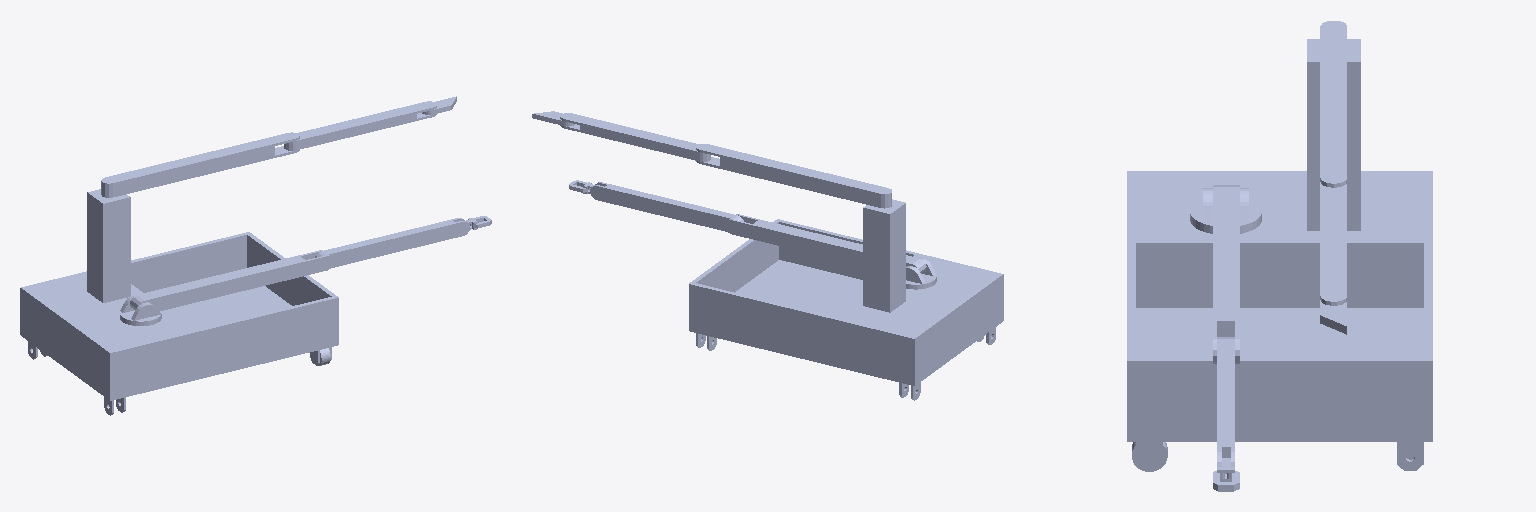
--- Facts derived from the render (not from the file) ---
Views: 3 orthographic renders of the robot side by side, from view 1: azimuth 30°, elevation 25°; view 2: azimuth 150°, elevation 25°; view 3: azimuth 270°, elevation 25°.
Robot: urdf_sim_tutorial — 15 links, 14 joints (9 revolute, 4 continuous, 1 prismatic); root link base_link; default pose: every joint at zero.
Links seen in each view (by area): view 1: base_link, arm2_link2, arm1_link2, arm1_link3, arm2_link3, arm1_link1; view 2: base_link, arm2_link2, arm1_link2, arm1_link3, arm2_link3, arm1_link1; view 3: base_link, arm2_link2, arm1_link2, arm2_link3, arm1_link3, arm1_link1, arm2_link1, arm2_link4.
Boxes of the visible links, box(x1,y1,x2,y2) form: base_link: box(20, 196, 338, 415); arm2_link2: box(101, 132, 299, 197); arm1_link2: box(130, 250, 333, 311); arm1_link3: box(315, 218, 469, 267); arm2_link3: box(284, 101, 436, 150); arm1_link1: box(120, 294, 161, 325); base_link: box(689, 207, 1003, 400); arm2_link2: box(696, 144, 891, 208); arm1_link2: box(724, 214, 926, 275); arm1_link3: box(590, 182, 743, 231); arm2_link3: box(560, 113, 710, 161); arm1_link1: box(906, 258, 936, 289); base_link: box(1127, 69, 1432, 470); arm2_link2: box(1320, 21, 1346, 187); arm1_link2: box(1213, 185, 1239, 363); arm2_link3: box(1320, 176, 1346, 305); arm1_link3: box(1217, 337, 1234, 466); arm1_link1: box(1190, 188, 1261, 233); arm2_link1: box(1307, 24, 1360, 68); arm2_link4: box(1320, 294, 1346, 334).
Bounding box of the posed robot: 4.5 × 1.7 × 1.91 m (x, y, z).
12 mesh visuals loaded from 15 distinct referenced files (12 binary STL); not drawn: 3 (reference not matched to a file when rendering).

The robot description file, URDF, robot "urdf_sim_tutorial":
<?xml version="1.0" encoding="utf-8"?>
<!-- This URDF was automatically created by SolidWorks to URDF Exporter! Originally created by Stephen Brawner ([email redacted]) 
     Commit Version: 1.5.1-0-g916b5db  Build Version: 1.5.7152.31018
     For more information, please see http://wiki.ros.org/sw_urdf_exporter -->
<robot
  name="urdf_sim_tutorial">
  <link
    name="base_link">
    <inertial>
      <origin
        xyz="-0.371636722392214 0.0139988026323521 -0.0128778468746189"
        rpy="0 0 0" />
      <mass
        value="1183.08155050657" />
      <inertia
        ixx="372.2306011621"
        ixy="3.78208983204614"
        ixz="48.0097422573757"
        iyy="641.840529280856"
        iyz="-11.8594518724721"
        izz="891.70713474857" />
    </inertial>
    <visual>
      <origin
        xyz="0 0 0"
        rpy="0 0 0" />
      <geometry>
        <mesh
          filename="package://urdf_sim_tutorial/meshes/base_link.STL" />
      </geometry>
      <material
        name="">
        <color
          rgba="0.792156862745098 0.819607843137255 0.933333333333333 1" />
      </material>
    </visual>
    <collision>
      <origin
        xyz="0 0 0"
        rpy="0 0 0" />
      <geometry>
        <mesh
          filename="package://urdf_sim_tutorial/meshes/base_link.STL" />
      </geometry>
    </collision>
  </link>
  <link
    name="wheel1">
    <inertial>
      <origin
        xyz="0 0 -2.2204E-16"
        rpy="0 0 0" />
      <mass
        value="3.2398" />
      <inertia
        ixx="0.015739"
        ixy="2.1176E-20"
        ixz="-4.2352E-20"
        iyy="0.010876"
        iyz="-5.5739E-19"
        izz="0.010876" />
    </inertial>
    <visual>
      <origin
        xyz="0 0 0"
        rpy="0 0 0" />
      <geometry>
        <mesh
          filename="package://urdf_sim_tutorial/meshes/wheel1.STL" />
      </geometry>
      <material
        name="">
        <color
          rgba="0.79216 0.81961 0.93333 1" />
      </material>
    </visual>
    <collision>
      <origin
        xyz="0 0 0"
        rpy="0 0 0" />
      <geometry>
        <mesh
          filename="package://urdf_sim_tutorial/meshes/wheel1.STL" />
      </geometry>
    </collision>
  </link>
  <joint
    name="base_link_to_wheel1"
    type="continuous">
    <origin
      xyz="1.125 -0.725 -0.37"
      rpy="0 0 0" />
    <parent
      link="base_link" />
    <child
      link="wheel1" />
    <axis
      xyz="1 0 0" />
    <limit
      effort="1000"
      velocity="0.5" />
  </joint>
  <link
    name="wheel2">
    <inertial>
      <origin
        xyz="4.3368E-18 4.4409E-16 0"
        rpy="0 0 0" />
      <mass
        value="3.2398" />
      <inertia
        ixx="0.015739"
        ixy="1.1294E-20"
        ixz="-4.2352E-20"
        iyy="0.010876"
        iyz="-2.1791E-19"
        izz="0.010876" />
    </inertial>
    <visual>
      <origin
        xyz="0 0 0"
        rpy="0 0 0" />
      <geometry>
        <mesh
          filename="package://urdf_sim_tutorial/meshes/wheel2.STL" />
      </geometry>
      <material
        name="">
        <color
          rgba="0.79216 0.81961 0.93333 1" />
      </material>
    </visual>
    <collision>
      <origin
        xyz="0 0 0"
        rpy="0 0 0" />
      <geometry>
        <mesh
          filename="package://urdf_sim_tutorial/meshes/wheel2.STL" />
      </geometry>
    </collision>
  </link>
  <joint
    name="base_link_to_wheel2"
    type="continuous">
    <origin
      xyz="-1.125 -0.725 -0.37"
      rpy="0 0 0" />
    <parent
      link="base_link" />
    <child
      link="wheel2" />
    <axis
      xyz="1 0 0" />
    <limit
      effort="1000"
      velocity="0.5" />
  </joint>
  <link
    name="wheel3">
    <inertial>
      <origin
        xyz="4.3368E-18 0 0"
        rpy="0 0 0" />
      <mass
        value="3.2398" />
      <inertia
        ixx="0.015739"
        ixy="1.1294E-20"
        ixz="-4.2352E-20"
        iyy="0.010876"
        iyz="-2.1791E-19"
        izz="0.010876" />
    </inertial>
    <visual>
      <origin
        xyz="0 0 0"
        rpy="0 0 0" />
      <geometry>
        <mesh
          filename="package://urdf_sim_tutorial/meshes/wheel3.STL" />
      </geometry>
      <material
        name="">
        <color
          rgba="0.79216 0.81961 0.93333 1" />
      </material>
    </visual>
    <collision>
      <origin
        xyz="0 0 0"
        rpy="0 0 0" />
      <geometry>
        <mesh
          filename="package://urdf_sim_tutorial/meshes/wheel3.STL" />
      </geometry>
    </collision>
  </link>
  <joint
    name="base_link_to_wheel3"
    type="continuous">
    <origin
      xyz="-1.125 0.725 -0.37"
      rpy="0 0 0" />
    <parent
      link="base_link" />
    <child
      link="wheel3" />
    <axis
      xyz="1 0 0" />
    <limit
      effort="1000"
      velocity="0.5" />
  </joint>
  <link
    name="wheel4">
    <inertial>
      <origin
        xyz="0 0 -2.22044604925031E-16"
        rpy="0 0 0" />
      <mass
        value="3.23976742401446" />
      <inertia
        ixx="0.0157386428837066"
        ixy="2.11758236813573E-20"
        ixz="-4.23516473627149E-20"
        iyy="0.0108759237861092"
        iyz="-5.57387383962731E-19"
        izz="0.0108759237861092" />
    </inertial>
    <visual>
      <origin
        xyz="0 0 0"
        rpy="0 0 0" />
      <geometry>
        <mesh
          filename="package://urdf_sim_tutorial/meshes/wheel4.STL" />
      </geometry>
      <material
        name="">
        <color
          rgba="0.792156862745098 0.819607843137255 0.933333333333333 1" />
      </material>
    </visual>
    <collision>
      <origin
        xyz="0 0 0"
        rpy="0 0 0" />
      <geometry>
        <mesh
          filename="package://urdf_sim_tutorial/meshes/wheel4.STL" />
      </geometry>
    </collision>
  </link>
  <joint
    name="base_link_to_wheel4"
    type="continuous">
    <origin
      xyz="1.125 0.725 -0.37"
      rpy="0 0 0" />
    <parent
      link="base_link" />
    <child
      link="wheel4" />
    <axis
      xyz="1 0 0" />
    <limit
      effort="1000"
      velocity="0.5" />
  </joint>
  <link
    name="arm1_link1">
    <inertial>
      <origin
        xyz="0 0 -0.0899421612400215"
        rpy="0 0 0" />
      <mass
        value="30.3337963399308" />
      <inertia
        ixx="0.643246565913193"
        ixy="-5.82335151237331E-18"
        ixz="-1.37821492542742E-18"
        iyy="0.626370474669819"
        iyz="3.82687635178316E-17"
        izz="0.408564224727811" />
    </inertial>
    <visual>
      <origin
        xyz="0 0 0"
        rpy="0 0 0" />
      <geometry>
        <mesh
          filename="package://urdf_sim_tutorial/meshes/arm1_link1.STL" />
      </geometry>
      <material
        name="">
        <color
          rgba="0.792156862745098 0.819607843137255 0.933333333333333 1" />
      </material>
    </visual>
    <collision>
      <origin
        xyz="0 0 0"
        rpy="0 0 0" />
      <geometry>
        <mesh
          filename="package://urdf_sim_tutorial/meshes/arm1_link1.STL" />
      </geometry>
    </collision>
  </link>
  <joint
    name="base_link_to_arm1_link1"
    type="revolute">
    <origin
      xyz="-0.6 -0.3 0.25"
      rpy="0 0 0" />
    <parent
      link="base_link" />
    <child
      link="arm1_link1" />
    <axis
      xyz="0 0 1" />
    <limit
      lower="-3.1415"
      upper="3.1415"
      effort="1000"
      velocity="0.5" />
  </joint>
  <link
    name="arm1_link2">
    <inertial>
      <origin
        xyz="0.902983819640065 -4.44089209850063E-16 -2.22044604925031E-15"
        rpy="0 0 0" />
      <mass
        value="43.5099555921539" />
      <inertia
        ixx="0.168281643345465"
        ixy="-1.2540666210035E-15"
        ixz="2.36969833607552E-15"
        iyy="14.0055904746337"
        iyz="2.84649869472838E-18"
        izz="13.9984094945799" />
    </inertial>
    <visual>
      <origin
        xyz="0 0 0"
        rpy="0 0 0" />
      <geometry>
        <mesh
          filename="package://urdf_sim_tutorial/meshes/arm1_link2.STL" />
      </geometry>
      <material
        name="">
        <color
          rgba="0.792156862745098 0.819607843137255 0.933333333333333 1" />
      </material>
    </visual>
    <collision>
      <origin
        xyz="0 0 0"
        rpy="0 0 0" />
      <geometry>
        <mesh
          filename="package://urdf_sim_tutorial/meshes/arm1_link2.STL" />
      </geometry>
    </collision>
  </link>
  <joint
    name="arm1_link1_to_link2"
    type="revolute">
    <origin
      xyz="0 0 0.13"
      rpy="1.5708 0 0" />
    <parent
      link="arm1_link1" />
    <child
      link="arm1_link2" />
    <axis
      xyz="0 0 1" />
    <limit
      lower="-3.1415"
      upper="3.1415"
      effort="1000"
      velocity="0.5" />
  </joint>
  <link
    name="arm1_link3">
    <inertial>
      <origin
        xyz="0.711593467921136 0 -2.22044604925031E-15"
        rpy="0 0 0" />
      <mass
        value="23.2628594007332" />
      <inertia
        ixx="0.06325543129244"
        ixy="5.74917714779439E-16"
        ixz="1.4799108310986E-15"
        iyy="4.72953406612324"
        iyz="-2.56495131274686E-18"
        izz="4.75227183314536" />
    </inertial>
    <visual>
      <origin
        xyz="0 0 0"
        rpy="0 0 0" />
      <geometry>
        <mesh
          filename="package://urdf_sim_tutorial/meshes/arm1_link3.STL" />
      </geometry>
      <material
        name="">
        <color
          rgba="0.792156862745098 0.819607843137255 0.933333333333333 1" />
      </material>
    </visual>
    <collision>
      <origin
        xyz="0 0 0"
        rpy="0 0 0" />
      <geometry>
        <mesh
          filename="package://urdf_sim_tutorial/meshes/arm1_link3.STL" />
      </geometry>
    </collision>
  </link>
  <joint
    name="arm1_link2_to_link3"
    type="revolute">
    <origin
      xyz="2 0 0"
      rpy="0 0 0" />
    <parent
      link="arm1_link2" />
    <child
      link="arm1_link3" />
    <axis
      xyz="0 0 1" />
    <limit
      lower="-3.1415"
      upper="3.1415"
      effort="1000"
      velocity="0.5" />
  </joint>
  <link
    name="arm1_link4">
    <inertial>
      <origin
        xyz="0.0458902763105655 0 -1.77635683940025E-15"
        rpy="0 0 0" />
      <mass
        value="0.738705735339555" />
      <inertia
        ixx="0.000783663262373398"
        ixy="-4.7286643816136E-20"
        ixz="4.18530464518703E-18"
        iyy="0.00240409553647368"
        iyz="4.05048142524638E-20"
        izz="0.00245672840447926" />
    </inertial>
    <visual>
      <origin
        xyz="0 0 0"
        rpy="0 0 0" />
      <geometry>
        <mesh
          filename="package://urdf_sim_tutorial/meshes/arm1_link4.STL" />
      </geometry>
      <material
        name="">
        <color
          rgba="0.792156862745098 0.819607843137255 0.933333333333333 1" />
      </material>
    </visual>
    <collision>
      <origin
        xyz="0 0 0"
        rpy="0 0 0" />
      <geometry>
        <mesh
          filename="package://urdf_sim_tutorial/meshes/arm1_link4.STL" />
      </geometry>
    </collision>
  </link>
  <joint
    name="arm1_link3_to_link4"
    type="revolute">
    <origin
      xyz="1.5 0 0"
      rpy="0 0 0" />
    <parent
      link="arm1_link3" />
    <child
      link="arm1_link4" />
    <axis
      xyz="0 0 1" />
    <limit
      lower="-3.1415"
      upper="3.1415"
      effort="1000"
      velocity="0.5" />
  </joint>
  <link
    name="right_gripper">
    <inertial>
      <origin
        xyz="0.0804726270850926 -0.0191552112910767 0"
        rpy="0 0 0" />
      <mass
        value="0.389463613830895" />
      <inertia
        ixx="0.000197175326285283"
        ixy="-2.64592532375718E-05"
        ixz="2.47466115353221E-20"
        iyy="0.00151903582942666"
        iyz="2.83004724667055E-21"
        izz="0.00159224799904073" />
    </inertial>
    <visual>
      <origin
        xyz="0 0 0"
        rpy="0 0 0" />
      <geometry>
        <mesh
          filename="package://urdf_sim_tutorial/meshes/right_gripper.STL" />
      </geometry>
      <material
        name="">
        <color
          rgba="0.792156862745098 0.819607843137255 0.933333333333333 1" />
      </material>
    </visual>
    <collision>
      <origin
        xyz="0 0 0"
        rpy="0 0 0" />
      <geometry>
        <mesh
          filename="package://urdf_sim_tutorial/meshes/right_gripper.STL" />
      </geometry>
    </collision>
  </link>
  <joint
    name="arm1_link4_to_right_gripper"
    type="revolute">
    <origin
      xyz="0.13 0 0.025"
      rpy="-1.5708 0 0" />
    <parent
      link="arm1_link4" />
    <child
      link="right_gripper" />
    <axis
      xyz="0 0 1" />
    <limit
      lower="-3.1415"
      upper="3.1415"
      effort="1000"
      velocity="0.2" />
  </joint>
  <link
    name="left_gripper">
    <inertial>
      <origin
        xyz="0.0804726270851583 0.019155211291157 -4.44089209850063E-16"
        rpy="0 0 0" />
      <mass
        value="0.389463613830896" />
      <inertia
        ixx="0.000197175326285283"
        ixy="2.64592532375495E-05"
        ixz="-4.65287688882966E-20"
        iyy="0.00151903582942667"
        iyz="1.53173373019112E-20"
        izz="0.00159224799904074" />
    </inertial>
    <visual>
      <origin
        xyz="0 0 0"
        rpy="0 0 0" />
      <geometry>
        <mesh
          filename="package://urdf_sim_tutorial/meshes/left_gripper.STL" />
      </geometry>
      <material
        name="">
        <color
          rgba="0.792156862745098 0.819607843137255 0.933333333333333 1" />
      </material>
    </visual>
    <collision>
      <origin
        xyz="0 0 0"
        rpy="0 0 0" />
      <geometry>
        <mesh
          filename="package://urdf_sim_tutorial/meshes/left_gripper.STL" />
      </geometry>
    </collision>
  </link>
  <joint
    name="arm1_link4_to_left_gripper"
    type="revolute">
    <origin
      xyz="0.13 0 -0.025"
      rpy="-1.5708 0 0" />
    <parent
      link="arm1_link4" />
    <child
      link="left_gripper" />
    <axis
      xyz="0 0 1" />
    <limit
      lower="-3.1415"
      upper="3.1415"
      effort="1000"
      velocity="0.2" />
  </joint>
  <link
    name="arm2_link1">
    <inertial>
      <origin
        xyz="1.11022302462516E-16 0 0.447068258452662"
        rpy="0 0 0" />
      <mass
        value="51.8945243112741" />
      <inertia
        ixx="7.36751822699342"
        ixy="6.19180632691988E-18"
        ixz="-9.37759875095668E-17"
        iyy="7.36751822699342"
        iyz="9.31714016734916E-17"
        izz="0.374092038847274" />
    </inertial>
    <visual>
      <origin
        xyz="0 0 0"
        rpy="0 0 0" />
      <geometry>
        <mesh
          filename="package://urdf_sim_tutorial/meshes/arm2_link1.STL" />
      </geometry>
      <material
        name="">
        <color
          rgba="0.792156862745098 0.819607843137255 0.933333333333333 1" />
      </material>
    </visual>
    <collision>
      <origin
        xyz="0 0 0"
        rpy="0 0 0" />
      <geometry>
        <mesh
          filename="package://urdf_sim_tutorial/meshes/arm2_link1.STL" />
      </geometry>
    </collision>
  </link>
  <joint
    name="base_link_to_arm2_link1"
    type="prismatic">
    <origin
      xyz="-0.6 0.3 0.25"
      rpy="0 0 0" />
    <parent
      link="base_link" />
    <child
      link="arm2_link1" />
    <axis
      xyz="0 0 1" />
    <limit
      lower="0"
      upper="1.2"
      effort="1000"
      velocity="0.5" />
  </joint>
  <link
    name="arm2_link2">
    <inertial>
      <origin
        xyz="0.913704450398055 0 0"
        rpy="0 0 0" />
      <mass
        value="42.9994467859457" />
      <inertia
        ixx="0.165326010069522"
        ixy="1.23051059813024E-16"
        ixz="-3.95089951747353E-17"
        iyy="13.5814342748696"
        iyz="-2.5095001935787E-19"
        izz="13.5770493940898" />
    </inertial>
    <visual>
      <origin
        xyz="0 0 0"
        rpy="0 0 0" />
      <geometry>
        <mesh
          filename="package://urdf_sim_tutorial/meshes/arm2_link2.STL" />
      </geometry>
      <material
        name="">
        <color
          rgba="0.792156862745098 0.819607843137255 0.933333333333333 1" />
      </material>
    </visual>
    <collision>
      <origin
        xyz="0 0 0"
        rpy="0 0 0" />
      <geometry>
        <mesh
          filename="package://urdf_sim_tutorial/meshes/arm2_link2.STL" />
      </geometry>
    </collision>
  </link>
  <joint
    name="arm2_link1_to_link2"
    type="revolute">
    <origin
      xyz="0 0 1.115"
      rpy="0 0 0" />
    <parent
      link="arm2_link1" />
    <child
      link="arm2_link2" />
    <axis
      xyz="0 0 1" />
    <limit
      lower="-3.1415"
      upper="3.1415"
      effort="1000"
      velocity="0.5" />
  </joint>
  <link
    name="arm2_link3">
    <inertial>
      <origin
        xyz="0.689492548166673 4.44089209850063E-16 0"
        rpy="0 0 0" />
      <mass
        value="22.5128594007332" />
      <inertia
        ixx="0.0616929312924398"
        ixy="6.50213542918934E-18"
        ixz="3.81624878814869E-18"
        iyy="4.38767522512199"
        iyz="3.91742840690276E-19"
        izz="4.40916299214412" />
    </inertial>
    <visual>
      <origin
        xyz="0 0 0"
        rpy="0 0 0" />
      <geometry>
        <mesh
          filename="package://urdf_sim_tutorial/meshes/arm2_link3.STL" />
      </geometry>
      <material
        name="">
        <color
          rgba="0.792156862745098 0.819607843137255 0.933333333333333 1" />
      </material>
    </visual>
    <collision>
      <origin
        xyz="0 0 0"
        rpy="0 0 0" />
      <geometry>
        <mesh
          filename="package://urdf_sim_tutorial/meshes/arm2_link3.STL" />
      </geometry>
    </collision>
  </link>
  <joint
    name="arm2_link2_to_link3"
    type="revolute">
    <origin
      xyz="2 0 0"
      rpy="0 0 0" />
    <parent
      link="arm2_link2" />
    <child
      link="arm2_link3" />
    <axis
      xyz="0 0 1" />
    <limit
      lower="-3.1415"
      upper="3.1415"
      effort="1000"
      velocity="0.5" />
  </joint>
  <link
    name="arm2_link4">
    <inertial>
      <origin
        xyz="0.106269594348745 0.00540353869569854 4.44089209850063E-16"
        rpy="0 0 0" />
      <mass
        value="2.60246123733574" />
      <inertia
        ixx="0.00509270015154007"
        ixy="-0.00237277132947078"
        ixz="2.14277151573474E-20"
        iyy="0.0277706902273737"
        iyz="-1.12635932791541E-19"
        izz="0.0315335946039622" />
    </inertial>
    <visual>
      <origin
        xyz="0 0 0"
        rpy="0 0 0" />
      <geometry>
        <mesh
          filename="package://urdf_sim_tutorial/meshes/arm2_link4.STL" />
      </geometry>
      <material
        name="">
        <color
          rgba="0.792156862745098 0.819607843137255 0.933333333333333 1" />
      </material>
    </visual>
    <collision>
      <origin
        xyz="0 0 0"
        rpy="0 0 0" />
      <geometry>
        <mesh
          filename="package://urdf_sim_tutorial/meshes/arm2_link4.STL" />
      </geometry>
    </collision>
  </link>
  <joint
    name="arm2_link3_to_link4"
    type="revolute">
    <origin
      xyz="1.5 0 0"
      rpy="0 0 0" />
    <parent
      link="arm2_link3" />
    <child
      link="arm2_link4" />
    <axis
      xyz="0 0 1" />
    <limit
      lower="-3.1415"
      upper="3.1415"
      effort="1000"
      velocity="0.5" />
  </joint>

<transmission name="trans_base_link_to_wheel1">
        <type>transmission_interface/SimpleTransmission</type>
        <joint name="base_link_to_wheel1">
            <hardwareInterface>PositionJointInterface</hardwareInterface>
        </joint>
        <actuator name="base_link_to_wheel1_motor">
            <hardwareInterface>PositionJointInterface</hardwareInterface>
            <mechanicalReduction>1</mechanicalReduction>
        </actuator>
    </transmission>
    <transmission name="trans_base_link_to_wheel2">
        <type>transmission_interface/SimpleTransmission</type>
        <joint name="base_link_to_wheel2">
            <hardwareInterface>PositionJointInterface</hardwareInterface>
        </joint>
        <actuator name="base_link_to_wheel2_motor">
            <hardwareInterface>PositionJointInterface</hardwareInterface>
            <mechanicalReduction>1</mechanicalReduction>
        </actuator>
    </transmission>
    <transmission name="trans_base_link_to_wheel3">
        <type>transmission_interface/SimpleTransmission</type>
        <joint name="base_link_to_wheel3">
            <hardwareInterface>PositionJointInterface</hardwareInterface>
        </joint>
        <actuator name="base_link_to_wheel3_motor">
            <hardwareInterface>PositionJointInterface</hardwareInterface>
            <mechanicalReduction>1</mechanicalReduction>
        </actuator>
    </transmission>
    <transmission name="trans_base_link_to_wheel4">
        <type>transmission_interface/SimpleTransmission</type>
        <joint name="base_link_to_wheel4">
            <hardwareInterface>PositionJointInterface</hardwareInterface>
        </joint>
        <actuator name="base_link_to_wheel4_motor">
            <hardwareInterface>PositionJointInterface</hardwareInterface>
            <mechanicalReduction>1</mechanicalReduction>
        </actuator>
    </transmission>
    <transmission name="trans_base_link_to_arm1_link1">
        <type>transmission_interface/SimpleTransmission</type>
        <joint name="base_link_to_arm1_link1">
            <hardwareInterface>PositionJointInterface</hardwareInterface>
        </joint>
        <actuator name="base_link_to_arm1_link1_motor">
            <hardwareInterface>PositionJointInterface</hardwareInterface>
            <mechanicalReduction>1</mechanicalReduction>
        </actuator>
    </transmission>
    <transmission name="trans_arm1_link1_to_link2">
        <type>transmission_interface/SimpleTransmission</type>
        <joint name="arm1_link1_to_link2">
            <hardwareInterface>PositionJointInterface</hardwareInterface>
        </joint>
        <actuator name="arm1_link1_to_link2_motor">
            <hardwareInterface>PositionJointInterface</hardwareInterface>
            <mechanicalReduction>1</mechanicalReduction>
        </actuator>
    </transmission>
    <transmission name="trans_arm1_link2_to_link3">
        <type>transmission_interface/SimpleTransmission</type>
        <joint name="arm1_link2_to_link3">
            <hardwareInterface>PositionJointInterface</hardwareInterface>
        </joint>
        <actuator name="arm1_link2_to_link3_motor">
            <hardwareInterface>PositionJointInterface</hardwareInterface>
            <mechanicalReduction>1</mechanicalReduction>
        </actuator>
    </transmission>
    <transmission name="trans_arm1_link3_to_link4">
        <type>transmission_interface/SimpleTransmission</type>
        <joint name="arm1_link3_to_link4">
            <hardwareInterface>PositionJointInterface</hardwareInterface>
        </joint>
        <actuator name="arm1_link3_to_link4_motor">
            <hardwareInterface>PositionJointInterface</hardwareInterface>
            <mechanicalReduction>1</mechanicalReduction>
        </actuator>
    </transmission>
    <transmission name="trans_arm1_link4_to_right_gripper">
        <type>transmission_interface/SimpleTransmission</type>
        <joint name="arm1_link4_to_right_gripper">
            <hardwareInterface>PositionJointInterface</hardwareInterface>
        </joint>
        <actuator name="arm1_link4_to_right_gripper_motor">
            <hardwareInterface>PositionJointInterface</hardwareInterface>
            <mechanicalReduction>1</mechanicalReduction>
        </actuator>
    </transmission>
    <transmission name="trans_arm1_link4_to_left_gripper">
        <type>transmission_interface/SimpleTransmission</type>
        <joint name="arm1_link4_to_left_gripper">
            <hardwareInterface>PositionJointInterface</hardwareInterface>
        </joint>
        <actuator name="arm1_link4_to_left_gripper_motor">
            <hardwareInterface>PositionJointInterface</hardwareInterface>
            <mechanicalReduction>1</mechanicalReduction>
        </actuator>
    </transmission>
    <transmission name="trans_base_link_to_arm2_link1">
        <type>transmission_interface/SimpleTransmission</type>
        <joint name="base_link_to_arm2_link1">
            <hardwareInterface>PositionJointInterface</hardwareInterface>
        </joint>
        <actuator name="base_link_to_arm2_link1_motor">
            <hardwareInterface>PositionJointInterface</hardwareInterface>
            <mechanicalReduction>1</mechanicalReduction>
        </actuator>
    </transmission>
    <transmission name="trans_arm2_link1_to_link2">
        <type>transmission_interface/SimpleTransmission</type>
        <joint name="arm2_link1_to_link2">
            <hardwareInterface>PositionJointInterface</hardwareInterface>
        </joint>
        <actuator name="arm2_link1_to_link2_motor">
            <hardwareInterface>PositionJointInterface</hardwareInterface>
            <mechanicalReduction>1</mechanicalReduction>
        </actuator>
    </transmission>
    <transmission name="trans_arm2_link2_to_link3">
        <type>transmission_interface/SimpleTransmission</type>
        <joint name="arm2_link2_to_link3">
            <hardwareInterface>PositionJointInterface</hardwareInterface>
        </joint>
        <actuator name="arm2_link2_to_link3_motor">
            <hardwareInterface>PositionJointInterface</hardwareInterface>
            <mechanicalReduction>1</mechanicalReduction>
        </actuator>
    </transmission>
    <transmission name="trans_arm2_link3_to_link4">
        <type>transmission_interface/SimpleTransmission</type>
        <joint name="arm2_link3_to_link4">
            <hardwareInterface>PositionJointInterface</hardwareInterface>
        </joint>
        <actuator name="arm2_link3_to_link4_motor">
            <hardwareInterface>PositionJointInterface</hardwareInterface>
            <mechanicalReduction>1</mechanicalReduction>
        </actuator>
    </transmission>
    <gazebo>
        <plugin name="gazebo_ros_control" filename="libgazebo_ros_control.so">
            <robotNamespace>/</robotNamespace>
        </plugin>
    </gazebo>


</robot>
